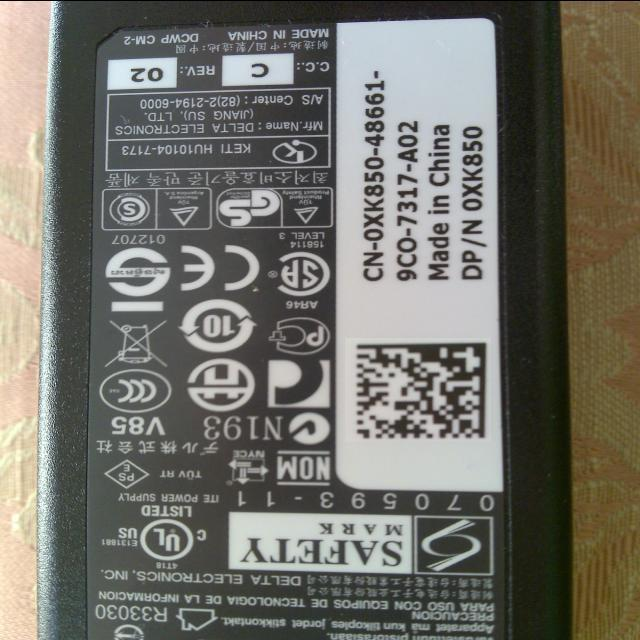Data-Matrix: (345, 337, 491, 441)
